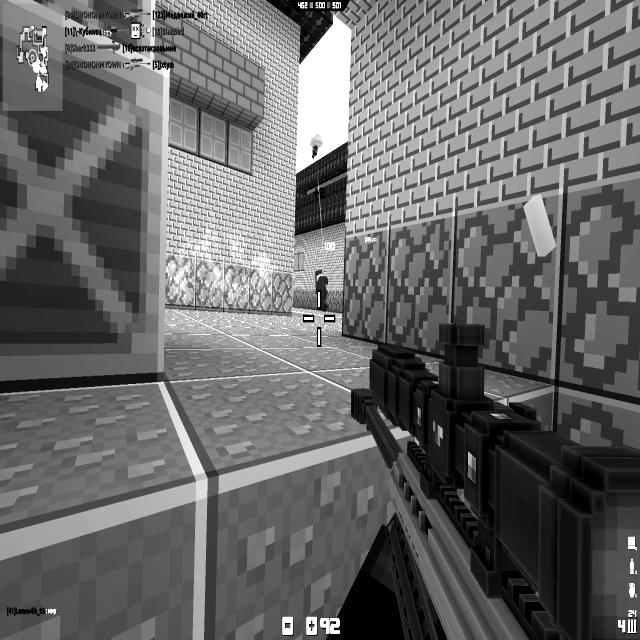Head: (315, 269, 324, 282)
Player: (314, 268, 329, 312)
